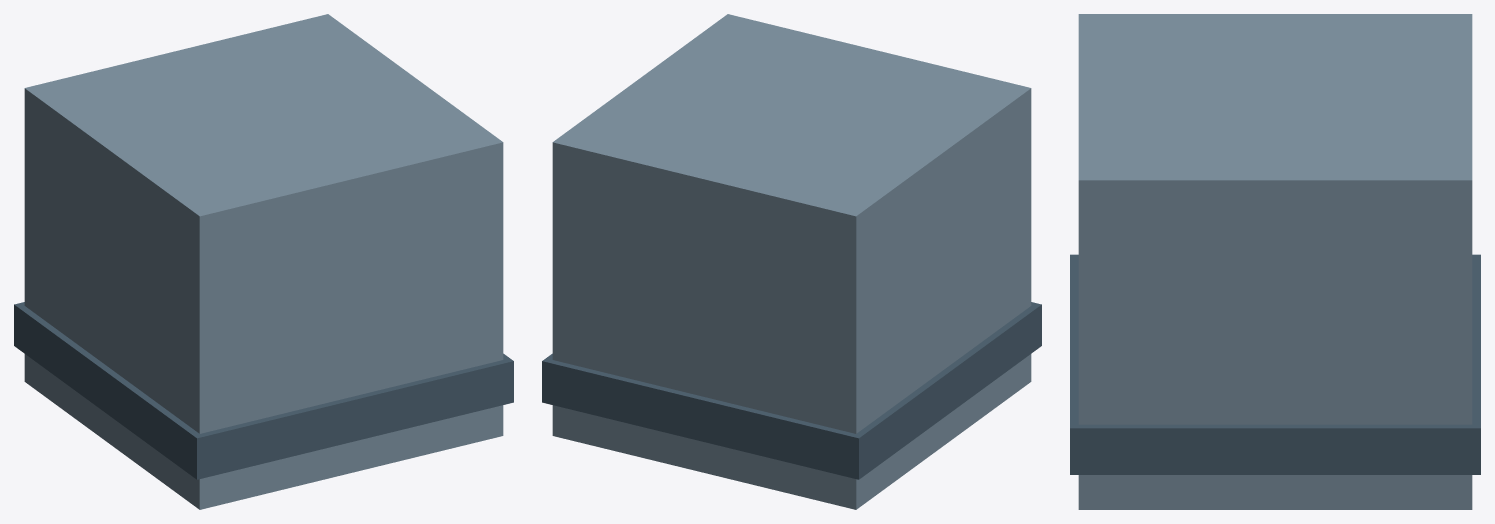
The model's file is iron_block.glb.
The picture shows the model from 3 angles, left to right: view 1: azimuth 30°, elevation 25°; view 2: azimuth 150°, elevation 25°; view 3: azimuth 270°, elevation 25°; orthographic projection. The views are drawn at different scales.
Visible parts, largest first — view 1: Part0, Part1; view 2: Part0, Part1; view 3: Part0, Part1.
Part boxes in pixels (left/top/right/bottom): Part0: left=24, top=14, right=503, bottom=509; Part1: left=14, top=302, right=513, bottom=479; Part0: left=552, top=14, right=1031, bottom=509; Part1: left=542, top=302, right=1041, bottom=479; Part0: left=1078, top=14, right=1472, bottom=509; Part1: left=1070, top=254, right=1480, bottom=474.
Bounding box in the file's own units: 0.96 × 0.85 × 0.96.
